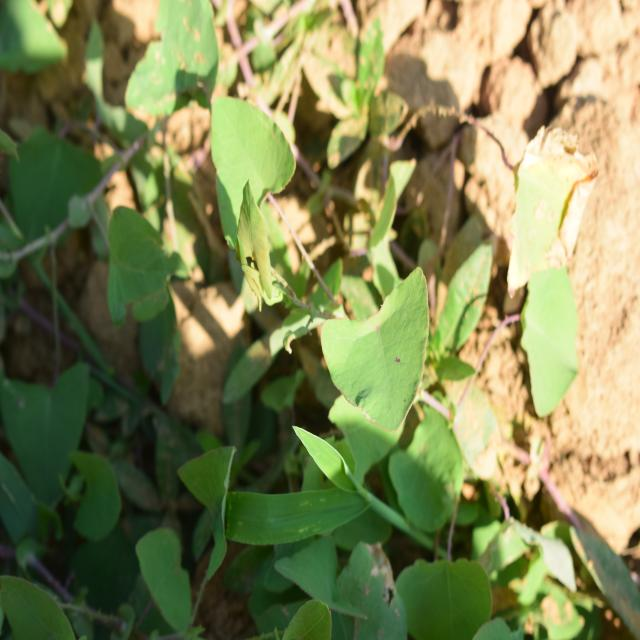Asiatic_Smartweed: (308, 250, 491, 518), (189, 83, 353, 364)
